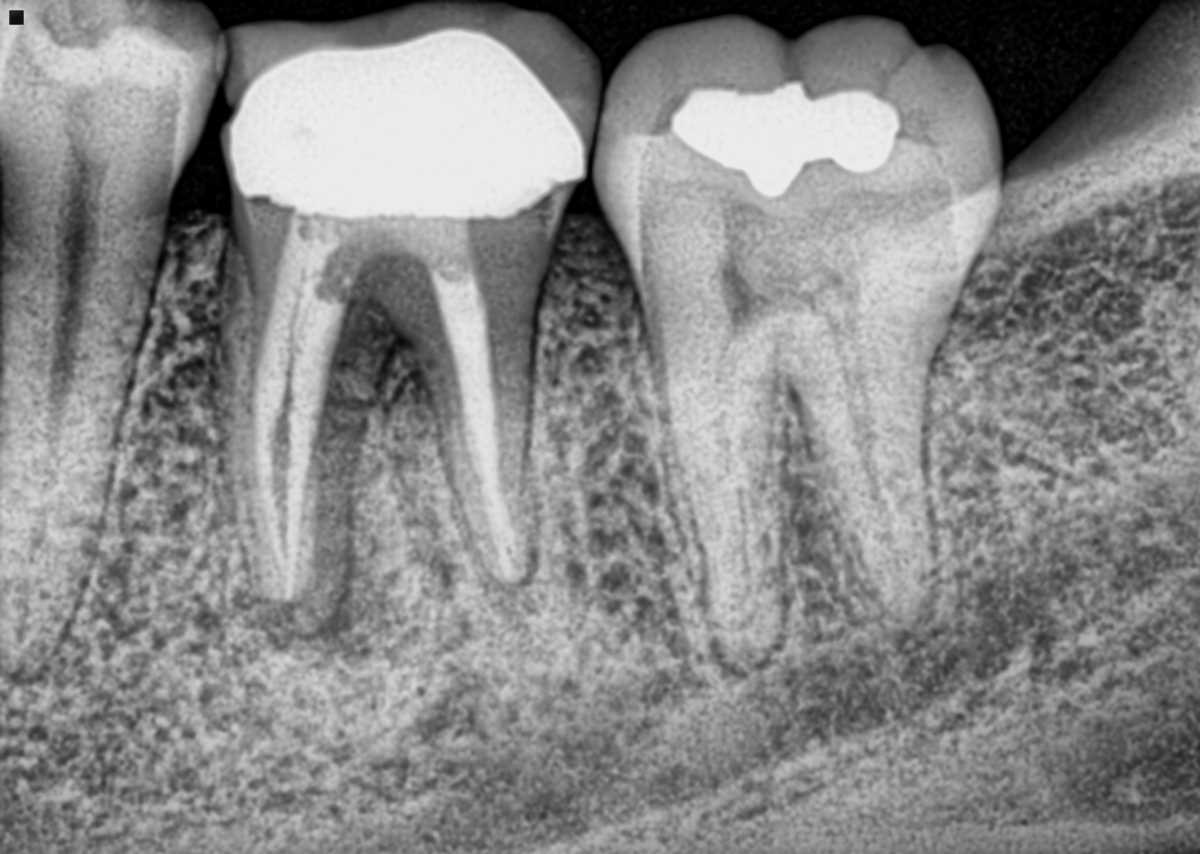Apical Lesion: (308, 558, 391, 666)
Distal Canal: (838, 342, 903, 567)
Distal Root: (402, 271, 546, 583), (790, 336, 935, 622)
Main Canal: (15, 246, 96, 641)
Main Root: (0, 235, 158, 682)
Mesial Canal: (720, 354, 751, 600)
Mesial Root: (234, 267, 393, 634), (661, 341, 787, 670)
Palatal Root: (438, 272, 525, 574)
Root Canal Filling: (257, 223, 352, 598)
